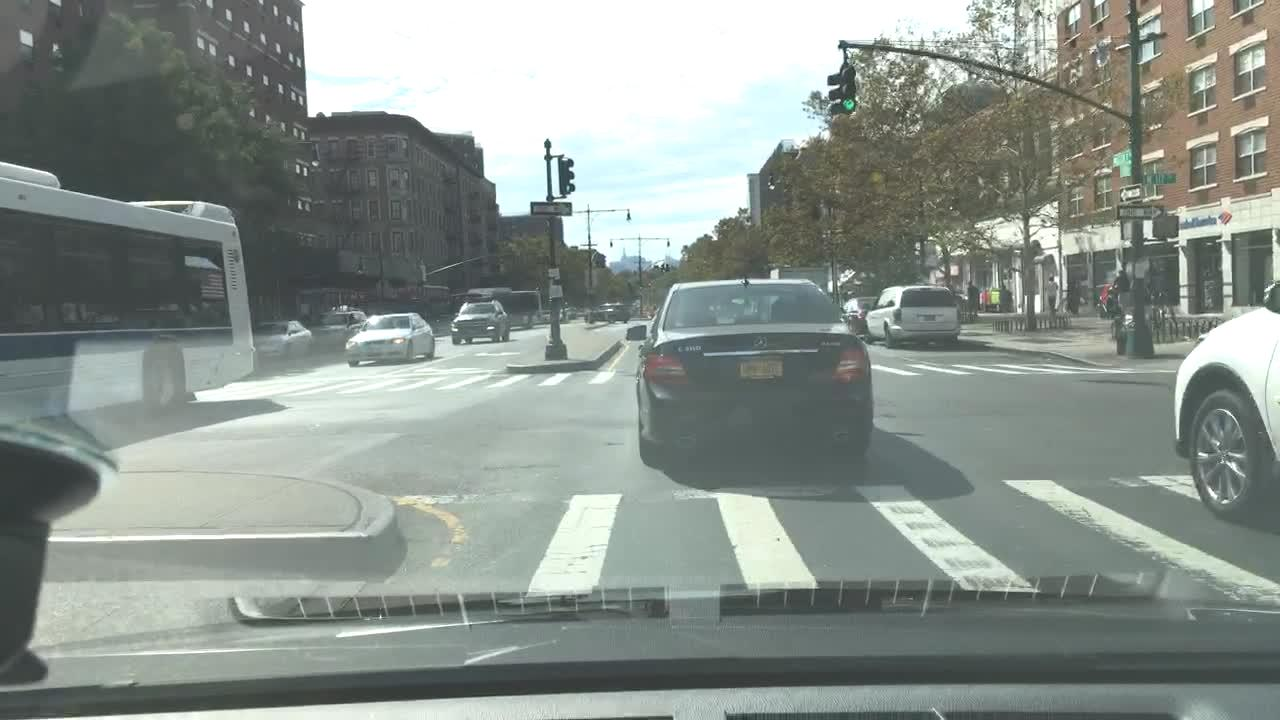Mercedes: (750, 331, 774, 355)
